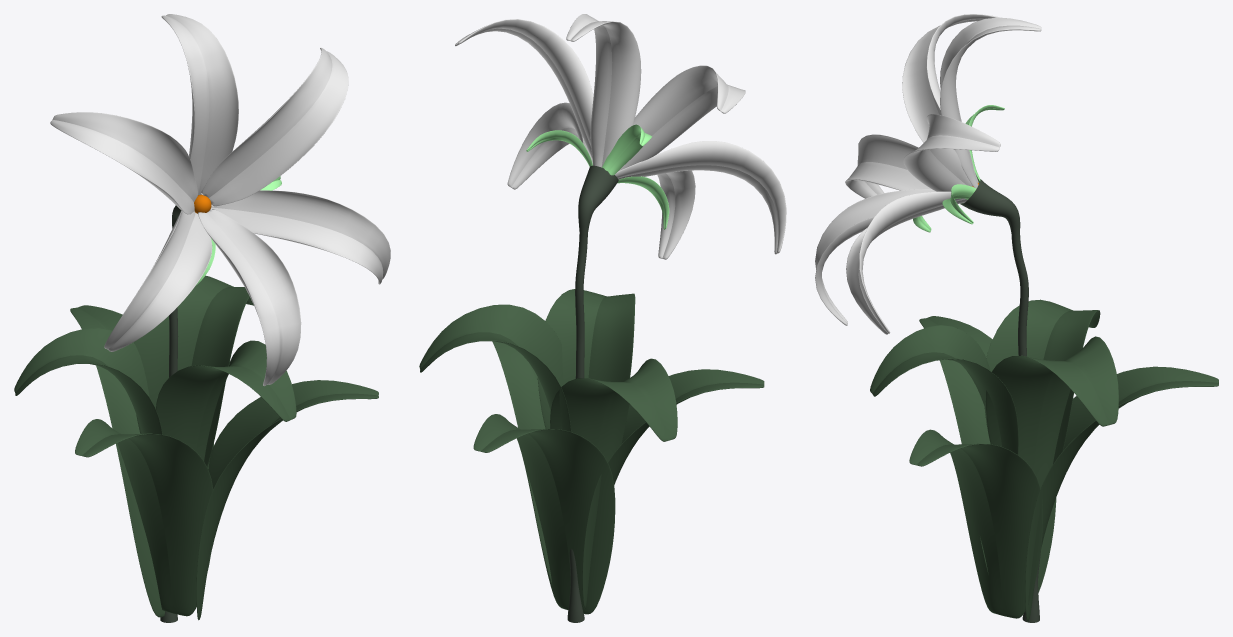
File: Tigerlily.fbx
The picture shows the model from 3 angles, left to right: view 1: azimuth 30°, elevation 25°; view 2: azimuth 150°, elevation 25°; view 3: azimuth 270°, elevation 25°; orthographic projection. The views are drawn at different scales.
Parts seen in each view (by area): view 1: leafbase.002, Petal base.005, Petal base.001, leafbase.001, Petal base.004, leafbase.005, Petal base, leafbase.003, Petal base.003, Petal base.002, leafbase.004, leafbase (+1 smaller); view 2: leafbase, leafbase.004, leafbase.005, leafbase.001, Petal base, Petal base.003, Petal base.002, leafbase.002, Petal base.005, Stem, leafbase.003, Petal base.001 (+2 smaller); view 3: leafbase.003, leafbase.001, leafbase.005, leafbase, leafbase.004, Petal base.005, leafbase.002, Petal base.001, Petal base.003, Petal base.002, Petal base, Stem (+2 smaller).
Boxes of the visible parts, x1=… form: leafbase.002: x1=75, y1=419, x2=213, y2=616; Petal base.005: x1=201, y1=48, x2=348, y2=206; Petal base.001: x1=210, y1=190, x2=390, y2=284; leafbase.001: x1=134, y1=275, x2=253, y2=466; Petal base.004: x1=197, y1=209, x2=301, y2=385; leafbase.005: x1=156, y1=340, x2=296, y2=467; Petal base: x1=161, y1=14, x2=238, y2=194; leafbase.003: x1=196, y1=380, x2=378, y2=620; Petal base.003: x1=50, y1=112, x2=198, y2=214; Petal base.002: x1=104, y1=210, x2=212, y2=351; leafbase.004: x1=14, y1=328, x2=162, y2=434; leafbase: x1=70, y1=305, x2=213, y2=617; leafbase: x1=473, y1=414, x2=615, y2=614; leafbase.004: x1=550, y1=358, x2=677, y2=462; leafbase.005: x1=537, y1=289, x2=635, y2=428; leafbase.001: x1=419, y1=304, x2=571, y2=431; Petal base: x1=566, y1=14, x2=641, y2=167; Petal base.003: x1=618, y1=65, x2=745, y2=171; Petal base.002: x1=615, y1=141, x2=786, y2=254; leafbase.002: x1=582, y1=369, x2=764, y2=608; Petal base.005: x1=455, y1=19, x2=593, y2=159; Stem: x1=567, y1=165, x2=618, y2=622; leafbase.003: x1=492, y1=341, x2=552, y2=584; Petal base.001: x1=507, y1=102, x2=592, y2=189; leafbase.003: x1=909, y1=429, x2=1042, y2=618; leafbase.001: x1=985, y1=336, x2=1118, y2=488; leafbase.005: x1=870, y1=325, x2=1018, y2=454; leafbase: x1=1025, y1=366, x2=1218, y2=621; leafbase.004: x1=984, y1=299, x2=1100, y2=463; Petal base.005: x1=903, y1=114, x2=1000, y2=191; leafbase.002: x1=919, y1=316, x2=1056, y2=592; Petal base.001: x1=846, y1=191, x2=967, y2=334; Petal base.003: x1=902, y1=14, x2=999, y2=142; Petal base.002: x1=845, y1=134, x2=930, y2=198; Petal base: x1=940, y1=17, x2=1041, y2=188; Stem: x1=960, y1=179, x2=1040, y2=622.
Bounding box in the file's own units: 822 × 1599 × 981.
